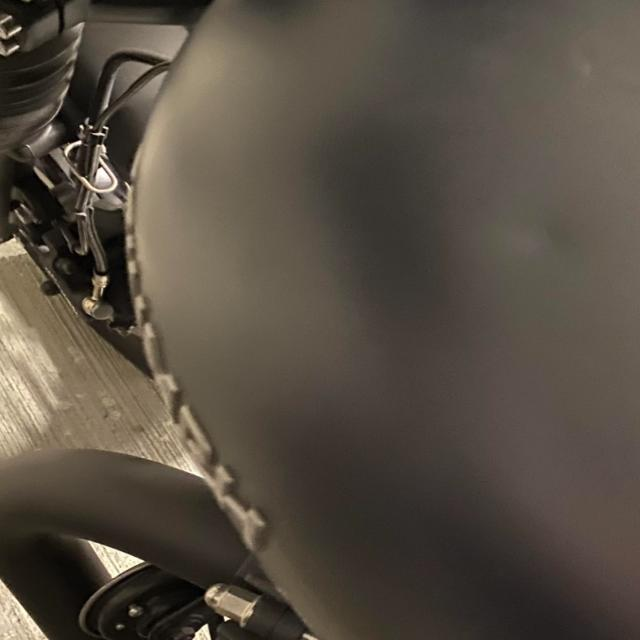dents: (492, 192, 602, 284), (548, 25, 616, 98)
